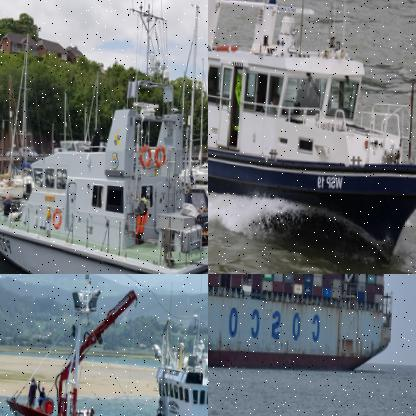Fishing Boat: (0, 274, 207, 415)
Merchant Ship: (208, 274, 400, 378)
Patrol Boat: (0, 0, 207, 273), (208, 0, 415, 270)
Sails Boat: (0, 30, 35, 201), (178, 56, 207, 184)
